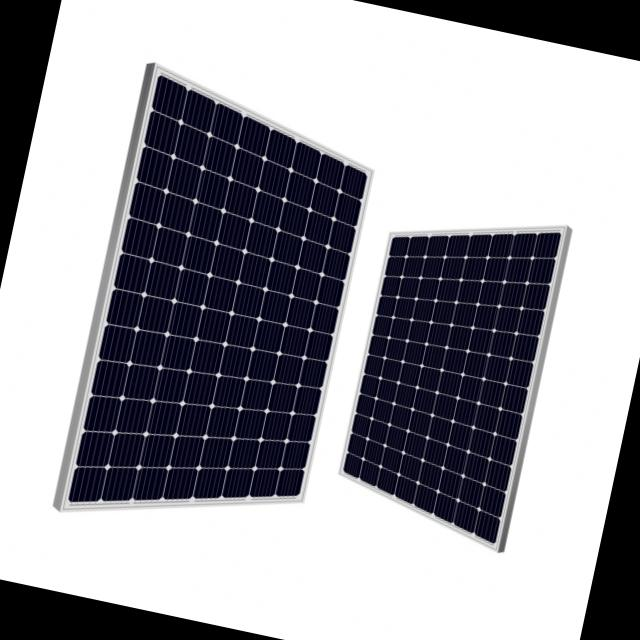no faulty: (77, 79, 366, 499), (349, 236, 560, 548)
